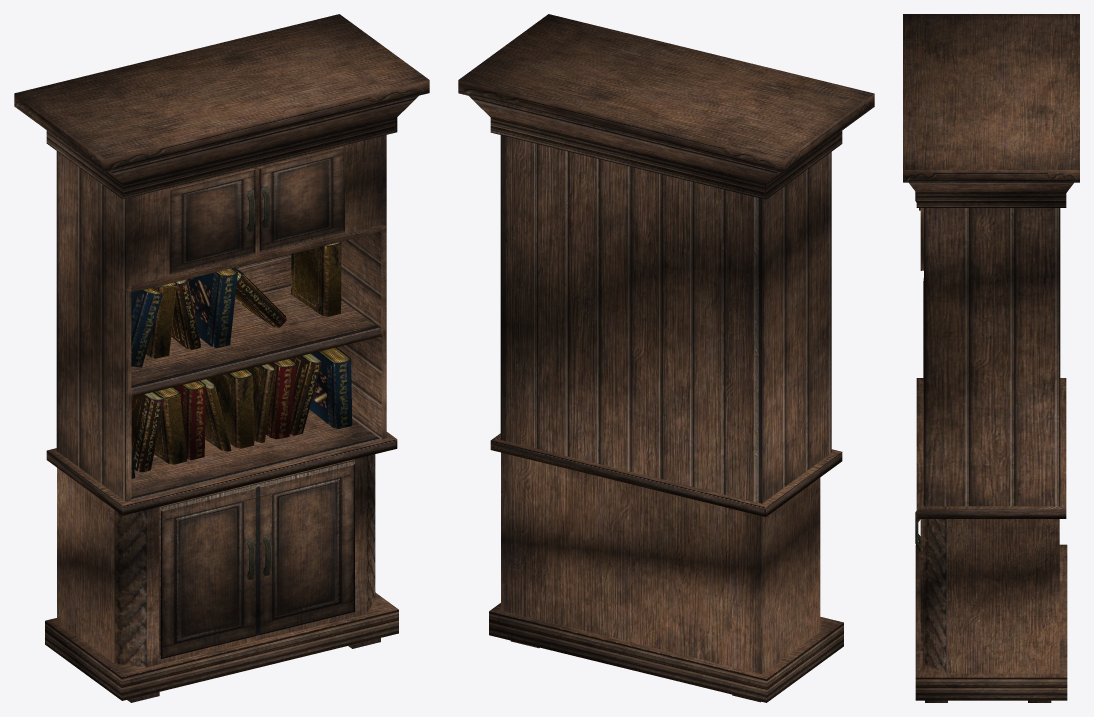
File: GS_VOB_BOOKCASE_ORANGE_01_2_KOZA.glb
The picture shows the model from 3 angles, left to right: view 1: azimuth 30°, elevation 25°; view 2: azimuth 150°, elevation 25°; view 3: azimuth 270°, elevation 25°; orthographic projection. The views are drawn at different scales.
Visible parts, largest first — view 1: Mesh; view 2: Mesh; view 3: Mesh.
Part boxes in pixels (left/top/right/bottom): Mesh: left=14, top=14, right=429, bottom=702; Mesh: left=458, top=14, right=874, bottom=702; Mesh: left=903, top=14, right=1079, bottom=702.
Size of the model in its own units: 1.41 by 2.33 by 0.6778.
5 materials, 5 textured.
